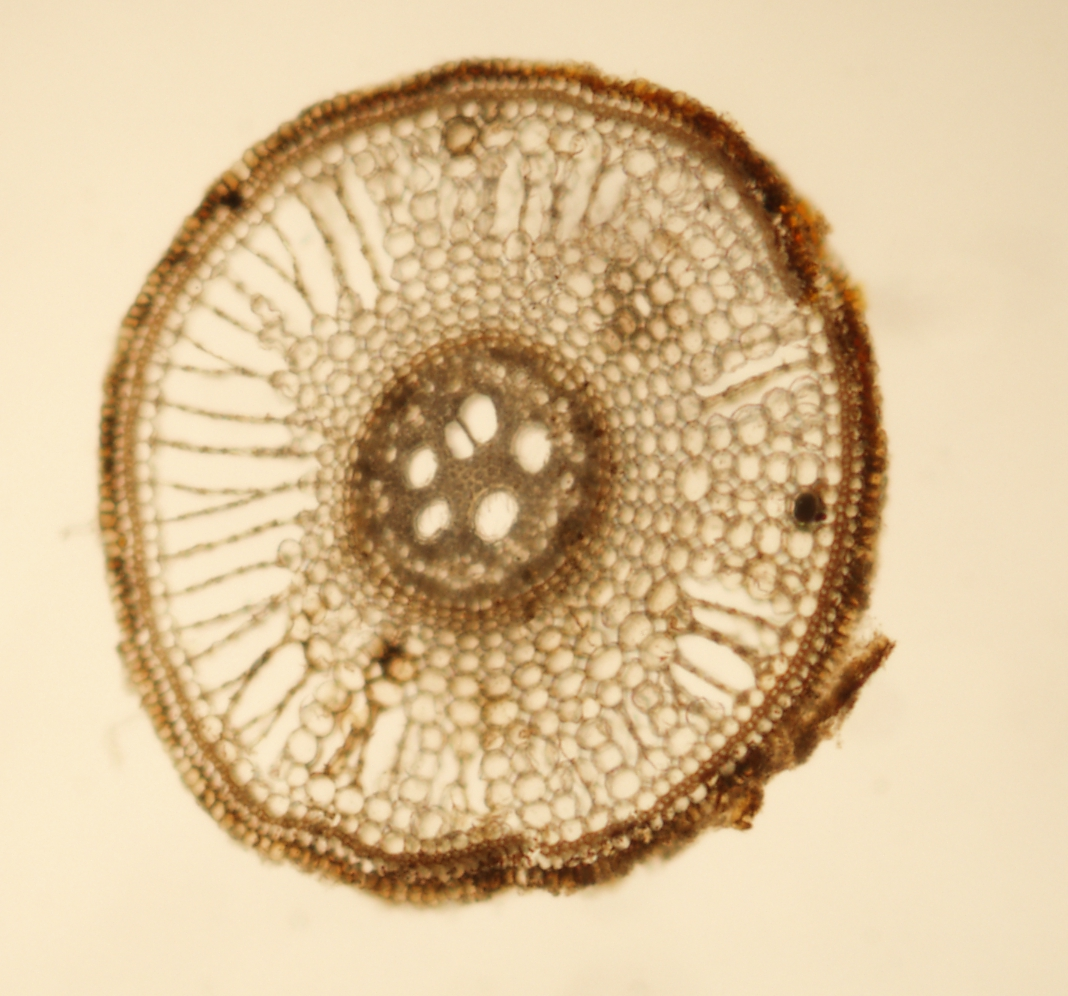lm: (443, 392, 498, 459), (474, 491, 520, 542), (512, 421, 552, 475), (414, 499, 452, 541), (408, 446, 438, 488)
